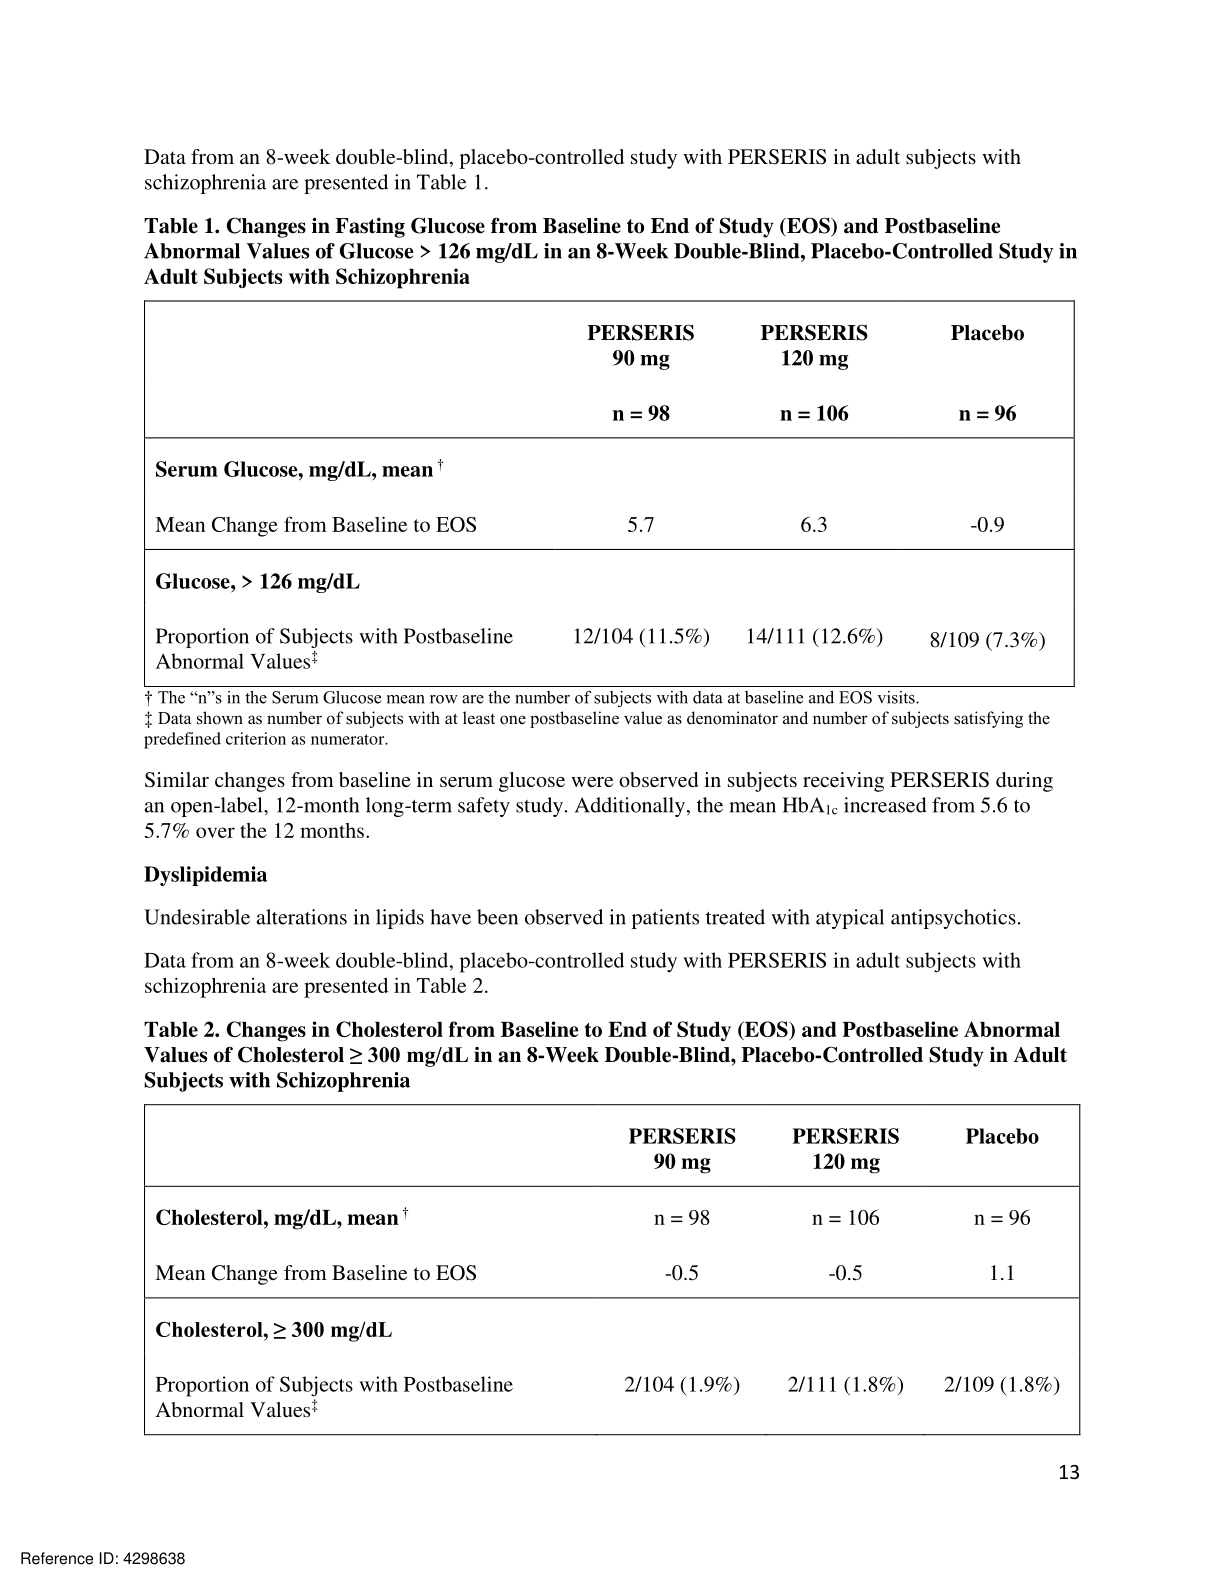partial_lined: (143, 298, 1076, 689), (143, 1101, 1084, 1437)
